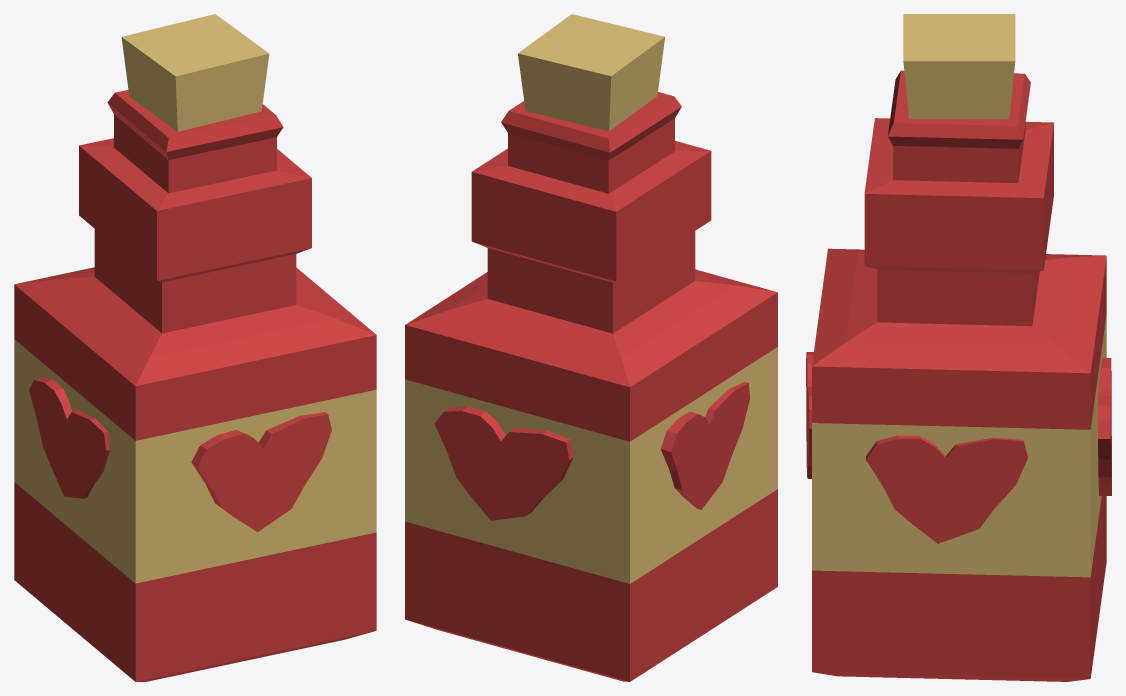
The model's file is potion.fbx.
The picture shows the model from 3 angles, left to right: view 1: azimuth 30°, elevation 25°; view 2: azimuth 150°, elevation 25°; view 3: azimuth 270°, elevation 25°; orthographic projection. The views are drawn at different scales.
Visible parts, largest first — view 1: Plane.001, Cube, Cube.001, Cube.004; view 2: Plane.001, Cube, Cube.003, Cube.004; view 3: Plane.001, Cube.002, Cube, Cube.003, Cube.001.
Boxes of the visible parts, x1,y1,x2,y2 form: Plane.001: (14, 90, 376, 681); Cube: (121, 14, 269, 131); Cube.001: (191, 412, 331, 531); Cube.004: (29, 377, 109, 498); Plane.001: (405, 92, 777, 681); Cube: (518, 14, 664, 131); Cube.003: (434, 406, 573, 520); Cube.004: (661, 382, 749, 509); Plane.001: (812, 70, 1106, 681); Cube.002: (866, 435, 1027, 543); Cube: (903, 14, 1015, 119); Cube.003: (1097, 358, 1111, 495); Cube.001: (806, 352, 813, 478).
Bounding box in the file's own units: 164 × 363 × 170.
